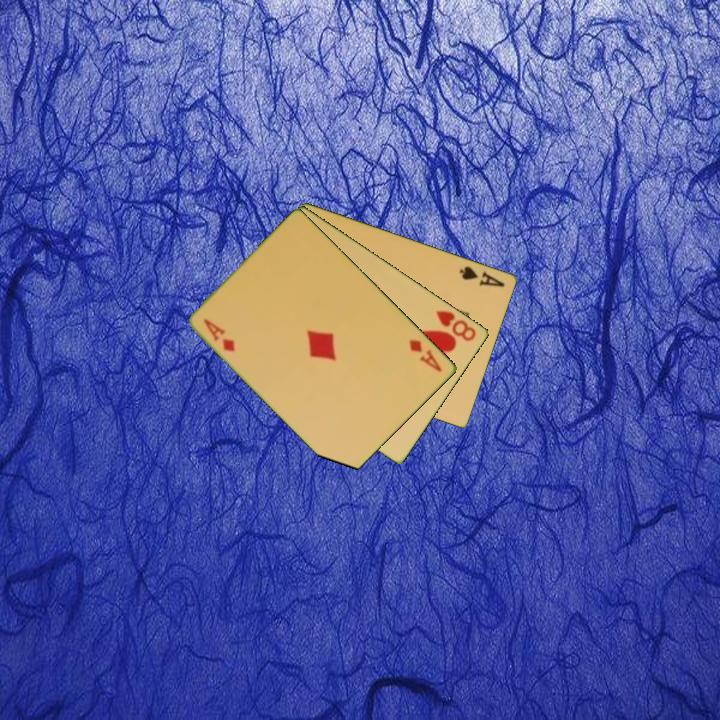8h: (432, 307, 479, 344)
Ad: (406, 336, 445, 375), (201, 315, 239, 355)
As: (456, 262, 508, 290)
